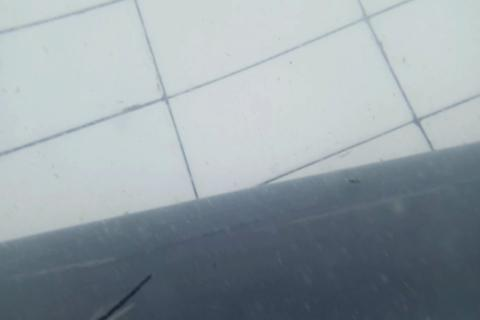keretakan: (93, 273, 152, 320)
